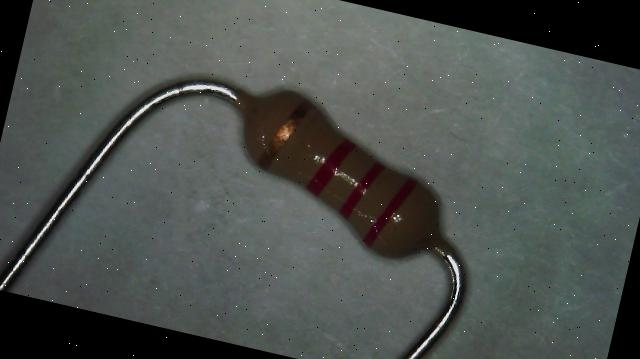gold: (258, 95, 310, 175)
red: (362, 171, 418, 254), (304, 132, 357, 202), (339, 156, 384, 224)
resistor: (207, 34, 493, 280)
